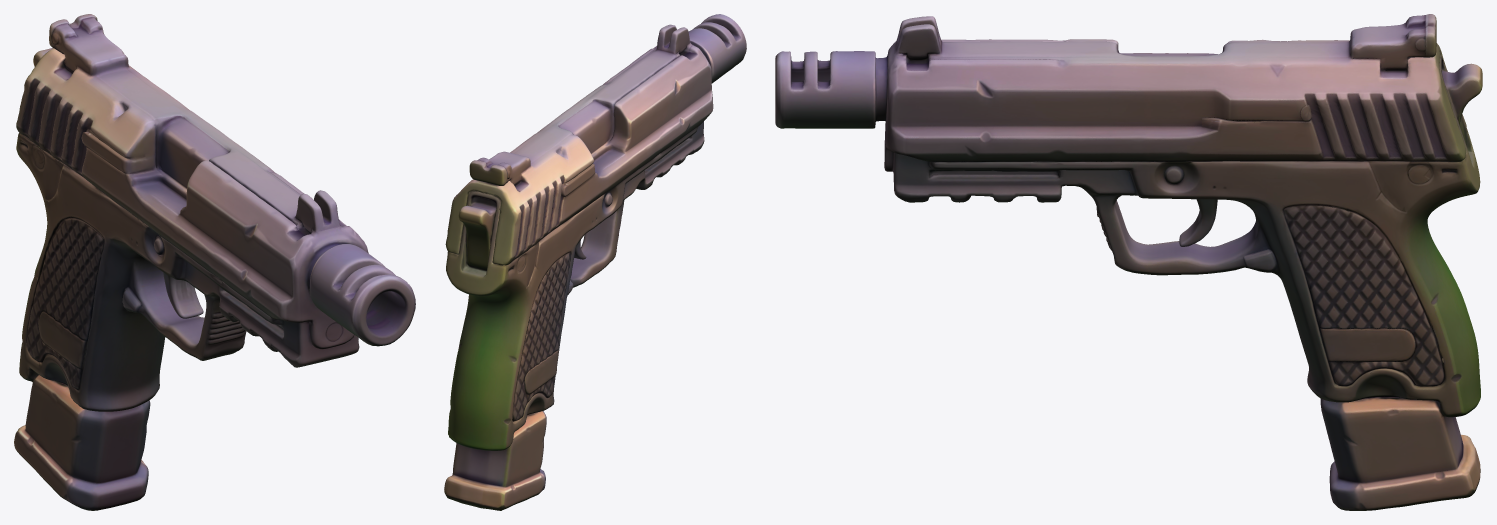
The model's file is Pistol_Tripo.glb.
3 views of the same model, side by side, from view 1: azimuth 30°, elevation 25°; view 2: azimuth 150°, elevation 25°; view 3: azimuth 270°, elevation 25° (orthographic). The views are drawn at different scales.
Parts seen in each view (by area): view 1: tripo_node_4f825cc0-6de7-4f84-9ec6-ae0d7cb85d24; view 2: tripo_node_4f825cc0-6de7-4f84-9ec6-ae0d7cb85d24; view 3: tripo_node_4f825cc0-6de7-4f84-9ec6-ae0d7cb85d24.
Boxes of the visible parts, box(x1,y1,x2,y2) form: tripo_node_4f825cc0-6de7-4f84-9ec6-ae0d7cb85d24: box(14, 14, 415, 510); tripo_node_4f825cc0-6de7-4f84-9ec6-ae0d7cb85d24: box(444, 14, 746, 510); tripo_node_4f825cc0-6de7-4f84-9ec6-ae0d7cb85d24: box(775, 14, 1482, 510).
Size of the model in its own units: 0.1522 by 0.7266 by 0.9784.
1 material, 1 textured.
